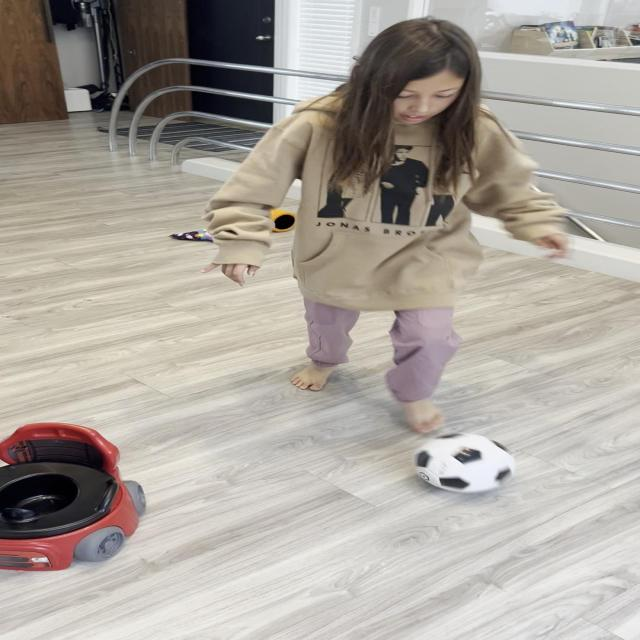Soccer Ball: (412, 433, 514, 493)
